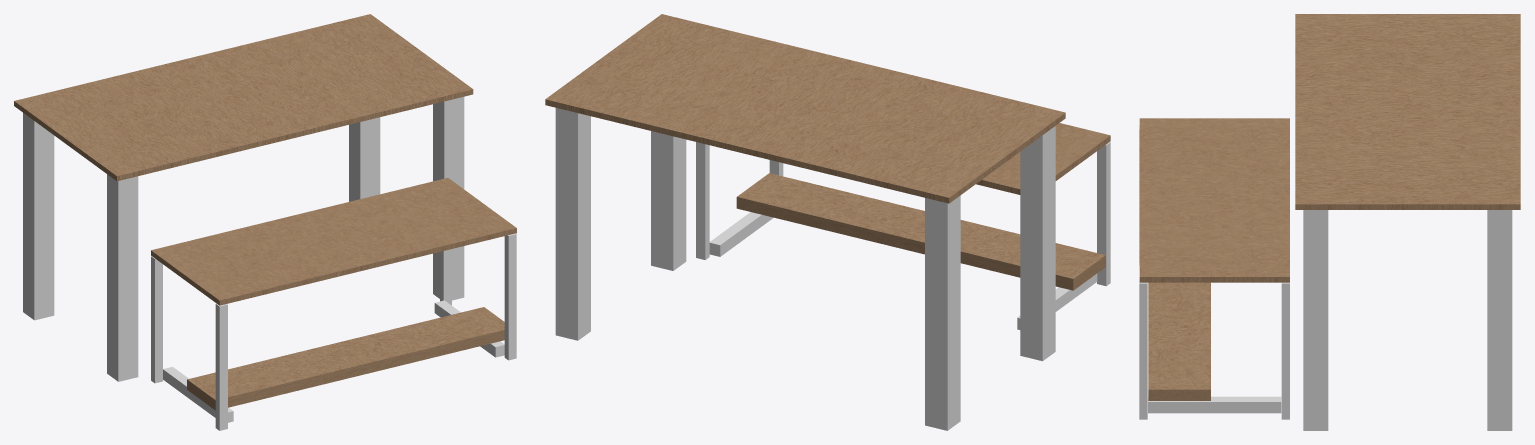
File: nestingTable.glb
3 views of the same model, side by side, from view 1: azimuth 30°, elevation 25°; view 2: azimuth 150°, elevation 25°; view 3: azimuth 270°, elevation 25° (orthographic). The views are drawn at different scales.
Visible parts, largest first — view 1: Plane, Plane.001, Cube, Cube.003, Cube.009, Cube.008, Cube.010, Cube.004, Cube.006, Cube.005, Cube.001, Cube.007 (+1 smaller); view 2: Plane, Cube, Cube.009, Cube.010, Cube.003, Cube.008, Plane.001, Cube.004, Cube.007, Cube.002, Cube.001; view 3: Plane, Plane.001, Cube, Cube.008, Cube.010, Cube.002, Cube.006, Cube.007.
Part boxes in pixels (box(x1,y1,x2,y2)): Plane: box(14, 14, 473, 181); Plane.001: box(151, 178, 516, 305); Cube: box(187, 307, 504, 410); Cube.003: box(107, 174, 138, 381); Cube.009: box(23, 113, 54, 320); Cube.008: box(433, 97, 464, 300); Cube.010: box(349, 117, 380, 201); Cube.004: box(215, 303, 227, 430); Cube.006: box(504, 233, 516, 360); Cube.005: box(151, 256, 162, 383); Cube.001: box(163, 366, 233, 422); Cube.007: box(440, 249, 451, 305); Plane: box(545, 14, 1065, 203); Cube: box(736, 173, 1105, 290); Cube.009: box(925, 195, 960, 430); Cube.010: box(555, 108, 590, 340); Cube.003: box(1020, 126, 1055, 361); Cube.008: box(651, 131, 686, 270); Plane.001: box(976, 123, 1110, 194); Cube.004: box(1097, 142, 1110, 286); Cube.007: box(696, 142, 709, 259); Cube.002: box(709, 212, 773, 256); Cube.001: box(1017, 273, 1097, 329); Plane: box(1295, 14, 1520, 209); Plane.001: box(1139, 118, 1289, 282); Cube: box(1148, 282, 1210, 400); Cube.008: box(1303, 210, 1328, 430); Cube.010: box(1487, 210, 1512, 430); Cube.002: box(1148, 396, 1281, 413); Cube.006: box(1139, 279, 1147, 419); Cube.007: box(1281, 282, 1289, 419).
Size of the model in its own units: 1.83 by 1.03 by 1.55.
Materials: 1 (1 with a texture image).
